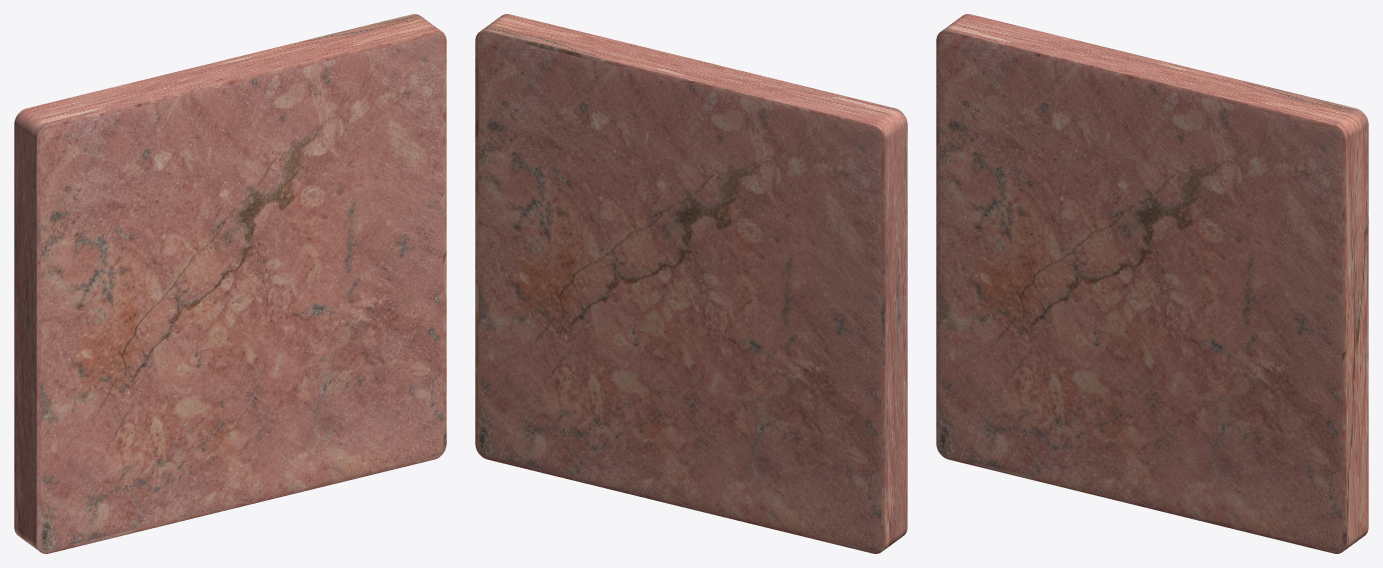
File: limestone-04.glb
3 views of the same model, side by side, from view 1: azimuth 30°, elevation 25°; view 2: azimuth 150°, elevation 25°; view 3: azimuth 330°, elevation 25° (orthographic).
Parts seen in each view (by area): view 1: Cube; view 2: Cube; view 3: Cube.
Boxes of the visible parts, x1,y1,x2,y2 form: Cube: [14, 14, 446, 553]; Cube: [475, 14, 907, 553]; Cube: [936, 14, 1368, 553].
Size of the model in its own units: 0.1 by 0.1 by 0.01.
2 materials, 2 textured.
